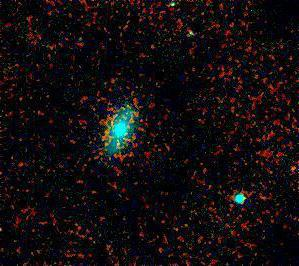star: (177, 16, 207, 46)
